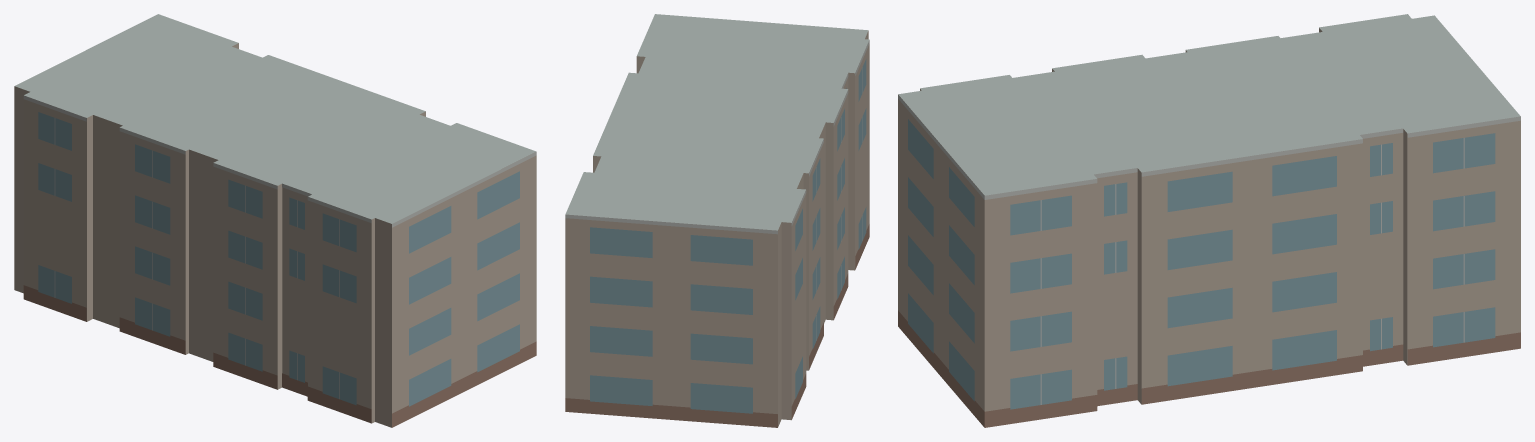
File: survey-upis-32707160.glb
3 renders of one model, left to right at view 1: azimuth 30°, elevation 25°; view 2: azimuth 150°, elevation 25°; view 3: azimuth 270°, elevation 25°, orthographic. The views are drawn at different scales.
Visible parts, largest first — view 1: survey-upis-32707160.tmp; view 2: survey-upis-32707160.tmp; view 3: survey-upis-32707160.tmp.
Part boxes in pixels (left/top/right/bottom): survey-upis-32707160.tmp: left=14, top=14, right=536, bottom=427; survey-upis-32707160.tmp: left=565, top=14, right=869, bottom=427; survey-upis-32707160.tmp: left=898, top=14, right=1520, bottom=427.
Size of the model in its own units: 22.17 by 13.2 by 32.1.
